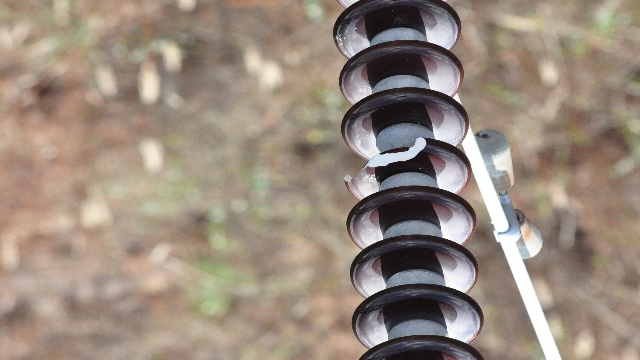broken_local: (342, 136, 427, 186)
insulator_unspecified: (333, 0, 490, 358)
